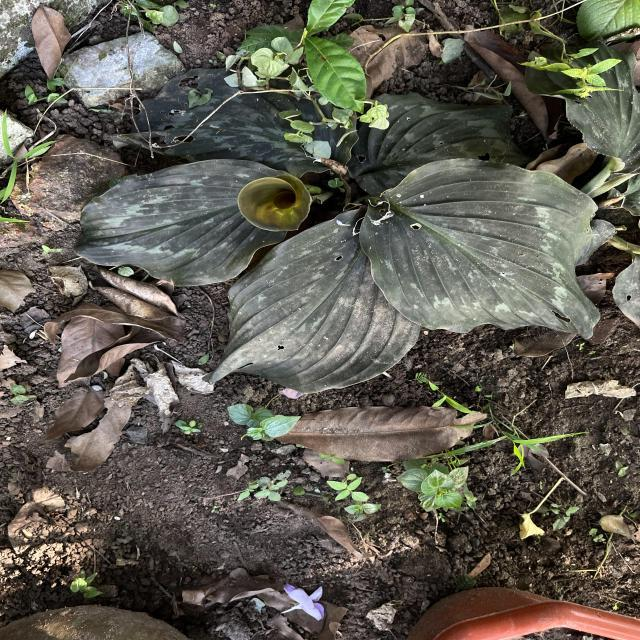Kaempferia galanga linn: (356, 155, 604, 344), (198, 206, 422, 397), (69, 154, 289, 289)
